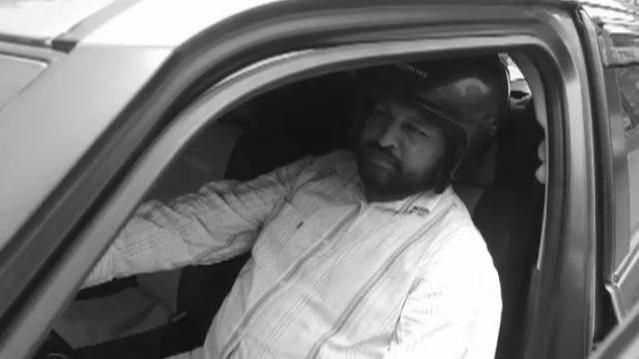Helmet: (382, 55, 515, 200)
